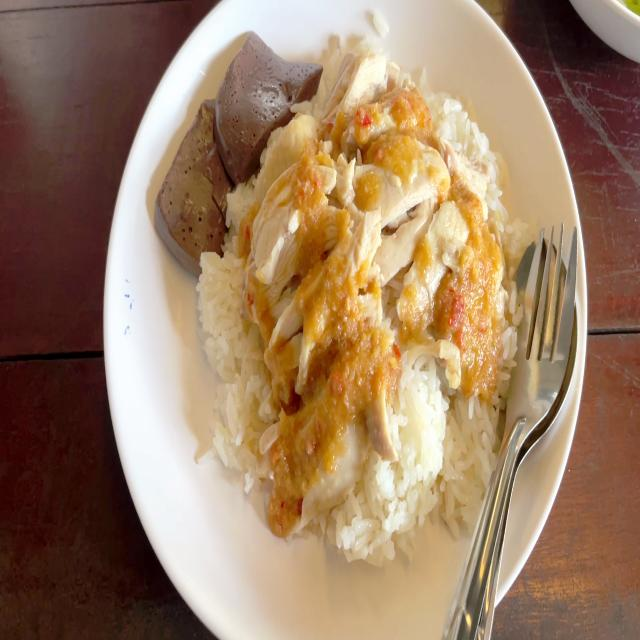boiled_chicken: (264, 81, 470, 417)
boiled_chicken_blood_jelly: (148, 101, 234, 267), (217, 31, 313, 148)
chicken_rice: (152, 23, 528, 565)
